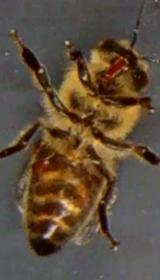varroa_mite: (20, 145, 60, 184)
